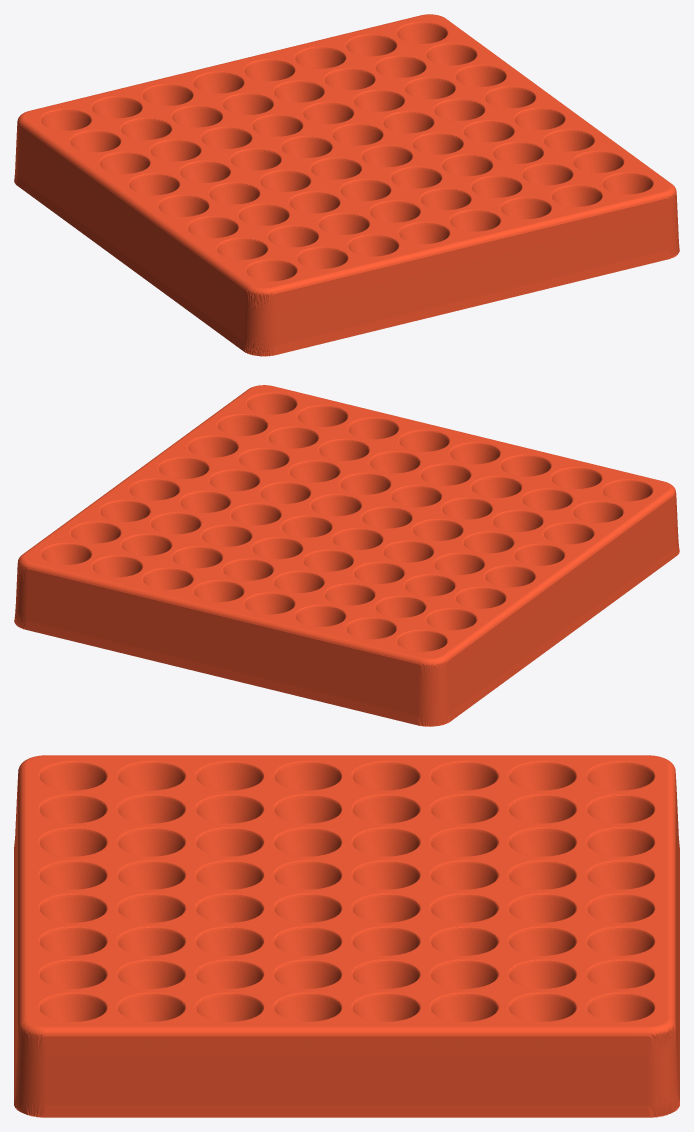
The model's file is mold.glb.
3 renders of one model, top to bottom at view 1: azimuth 30°, elevation 25°; view 2: azimuth 150°, elevation 25°; view 3: azimuth 270°, elevation 25°, orthographic. The views are drawn at different scales.
Visible parts, largest first — view 1: geometry_0; view 2: geometry_0; view 3: geometry_0.
Boxes of the visible parts, x1=… form: geometry_0: x1=14, y1=14, x2=679, y2=356; geometry_0: x1=14, y1=385, x2=679, y2=726; geometry_0: x1=14, y1=755, x2=679, y2=1117.
Bounding box in the file's own units: 0.1886 × 0.0267 × 0.1886.
